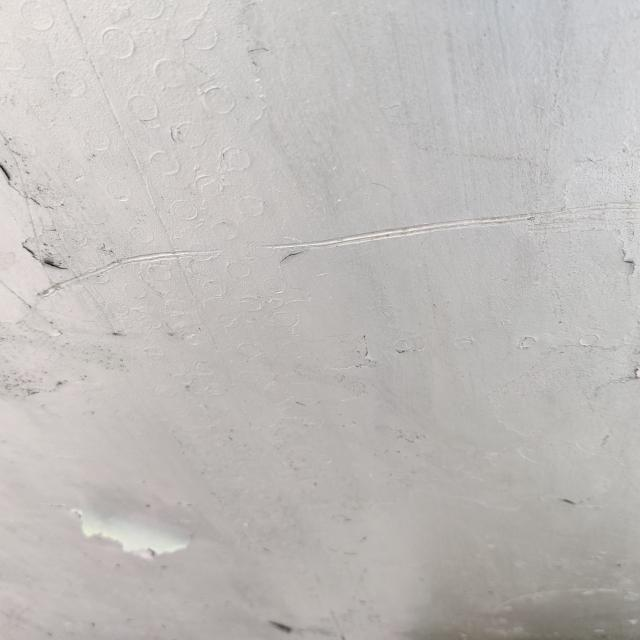paint-off: (45, 475, 204, 578)
scratch: (250, 161, 640, 274), (28, 226, 229, 312)
